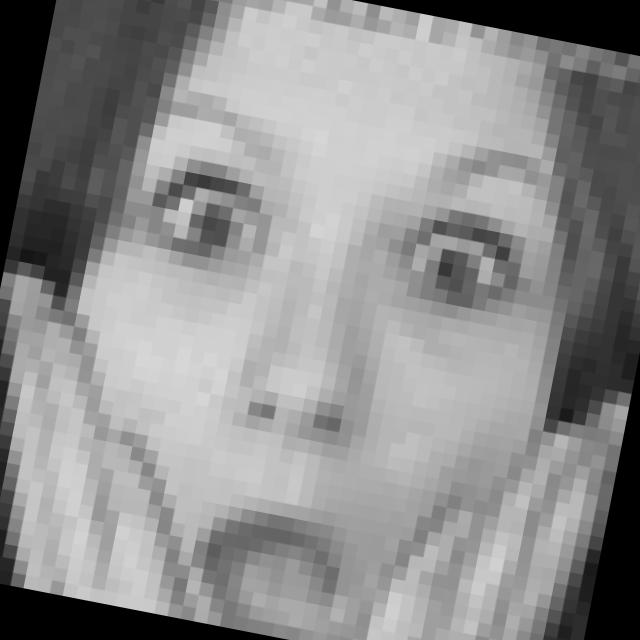surprise: (42, 73, 565, 640)
